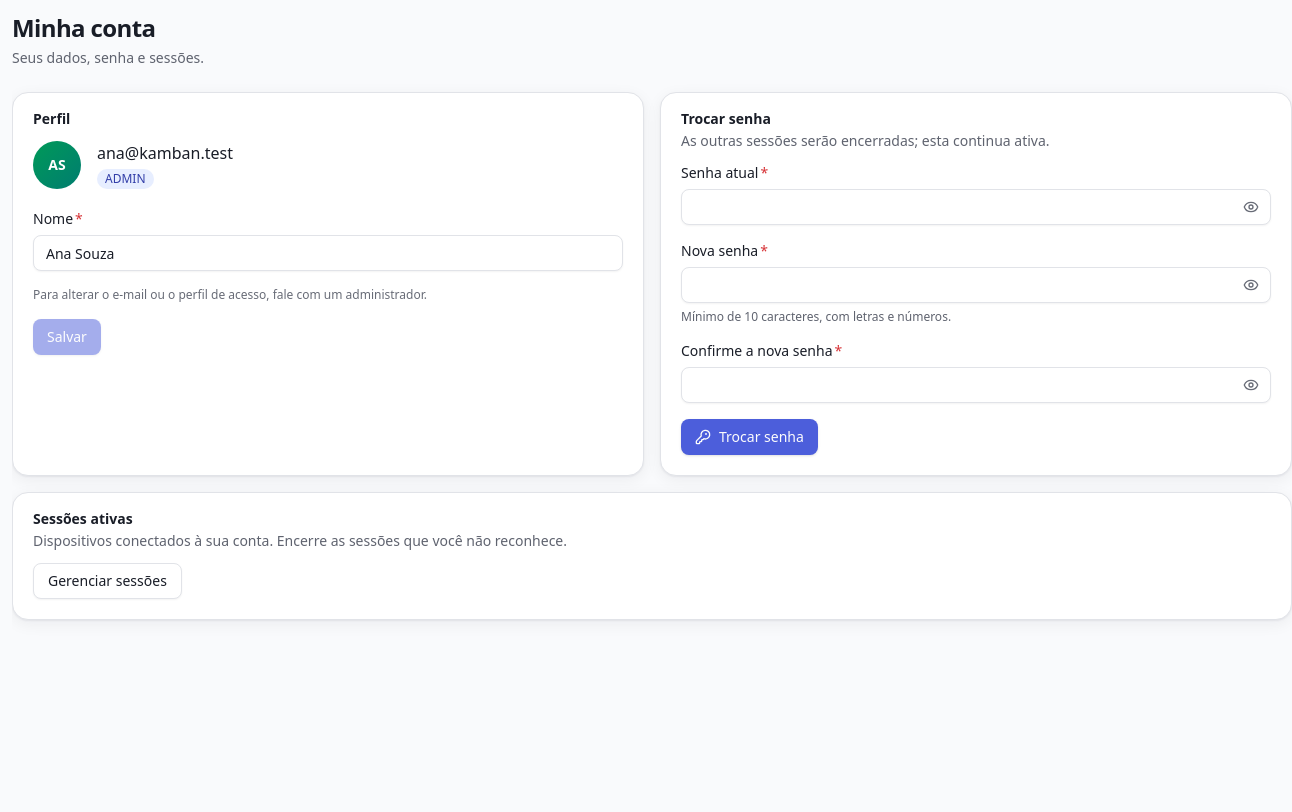
Test case: Minha conta — troca de senha › mostra no campo o erro de senha atual incorreta vindo da API
This screenshot has width=1292, height=812.
Type "Errada12345" into the password field labelled "Senha atual*" at (976, 207), box [681,189,1271,225]
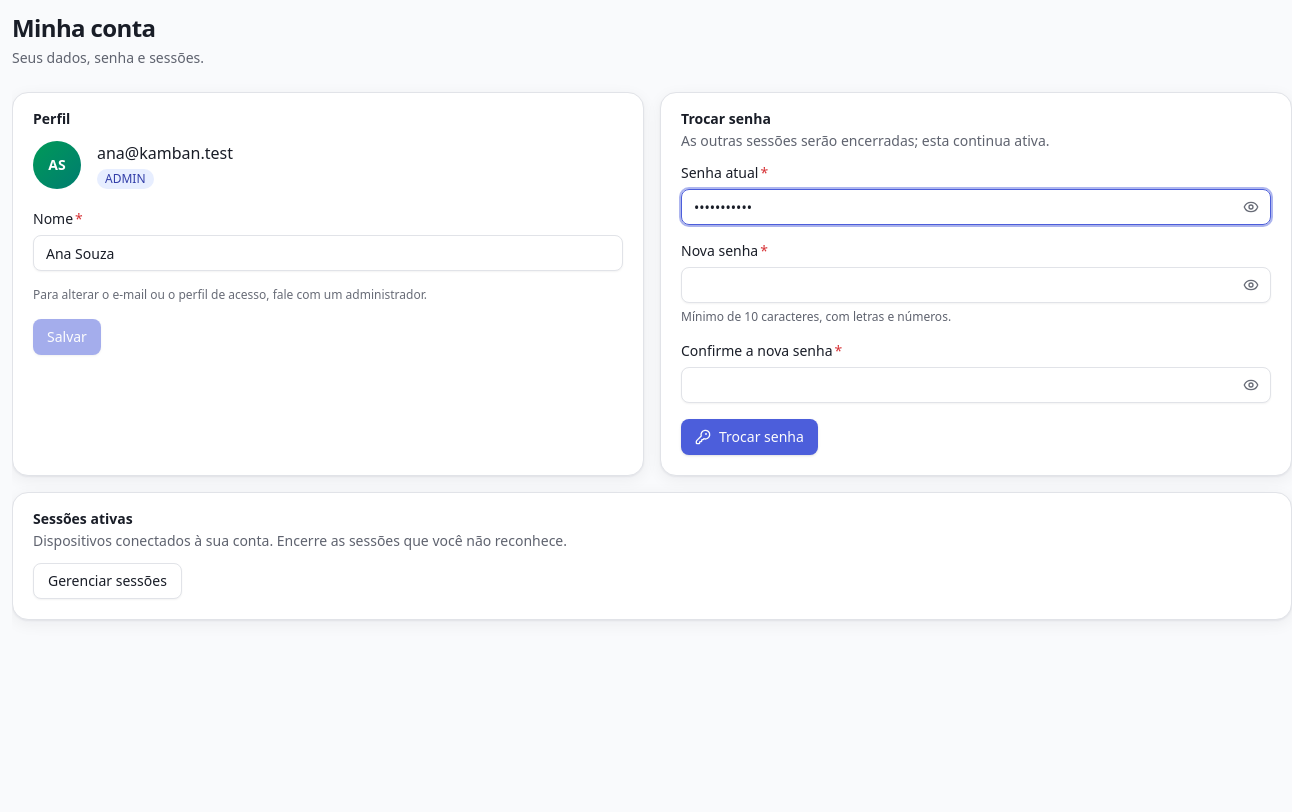
Type "NovaSenha123" into the password field labelled "Nova senha*" at (976, 285), box [681,267,1271,303]
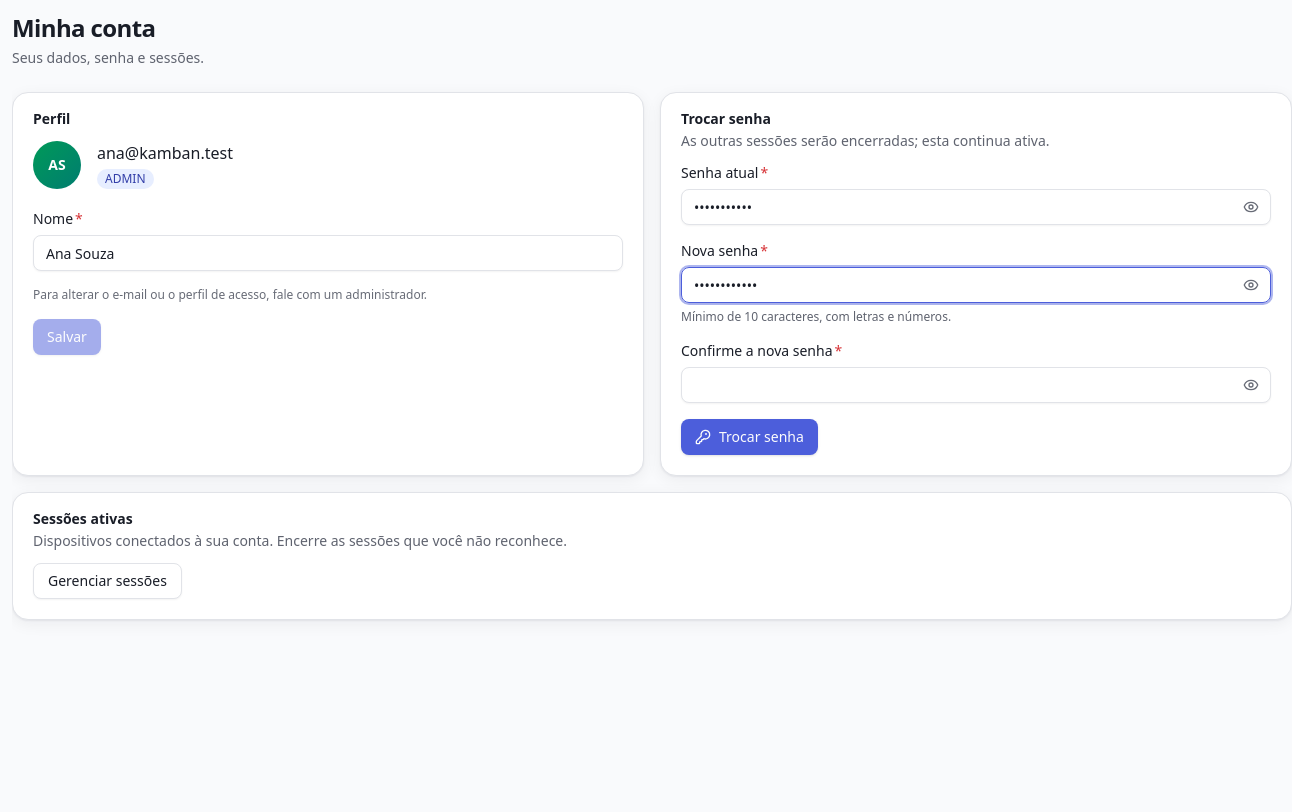
Type "NovaSenha123" into the password field labelled "Confirme a nova senha*" at (976, 385), box [681,367,1271,403]
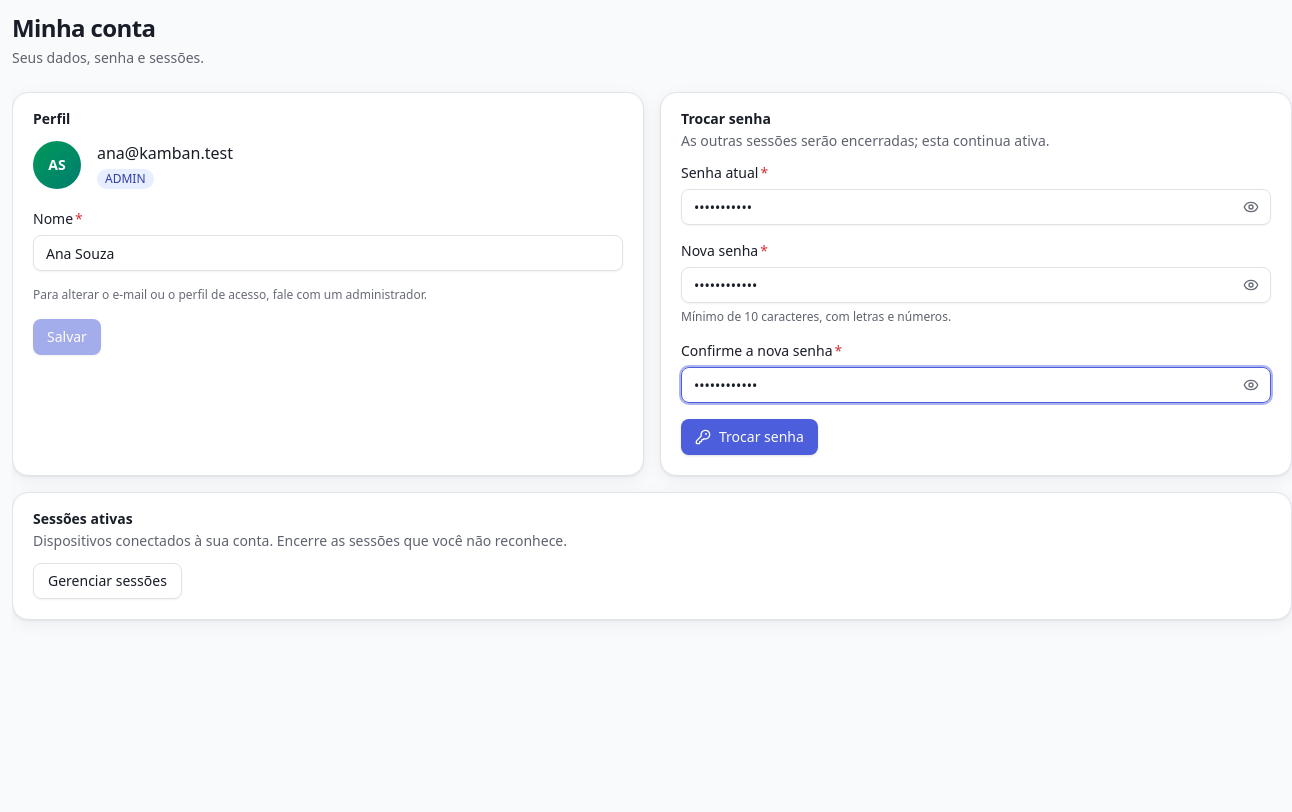
Click the button "Trocar senha" at (749, 437), box [681,419,818,455]
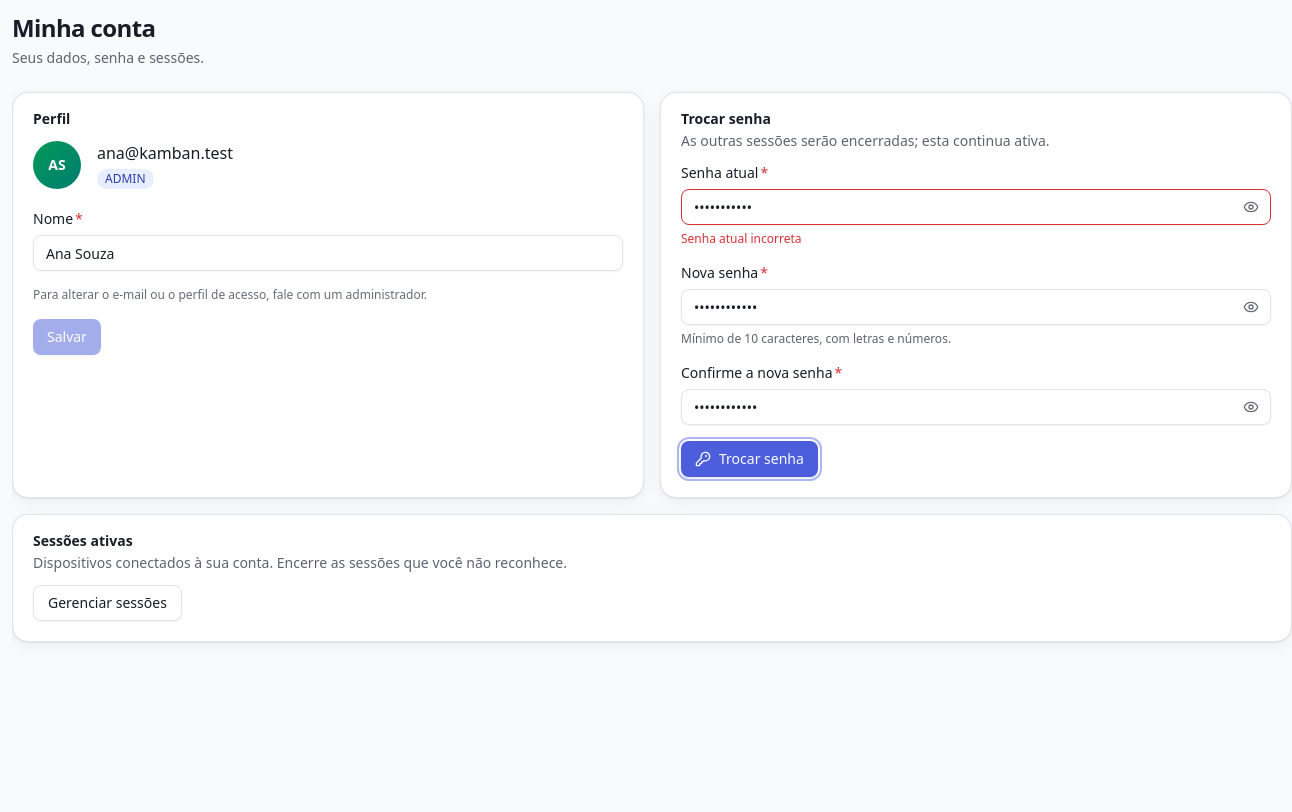
Now the text "Senha atual incorreta" is shown, box [681,230,802,247]
